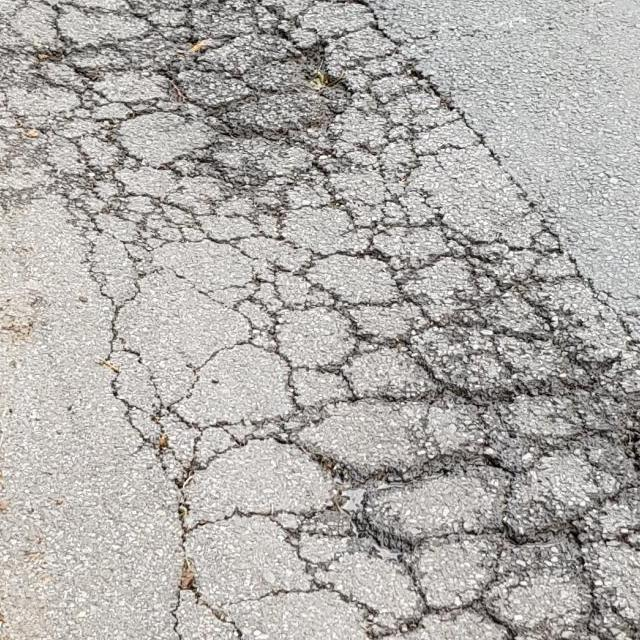retak_kulit_buaya: (75, 260, 640, 640), (0, 0, 400, 220)
